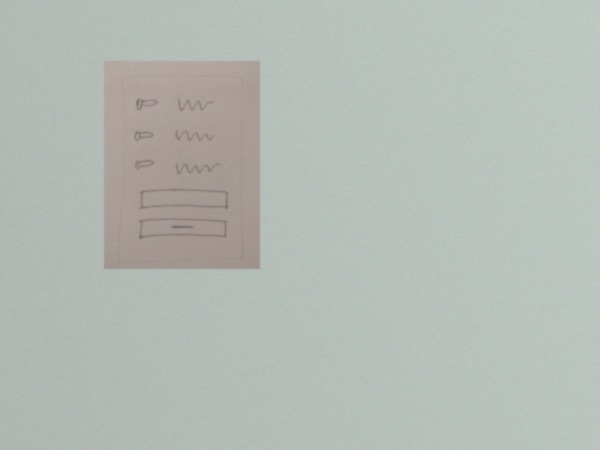button: (136, 216, 229, 242)
switch: (133, 95, 161, 114), (131, 156, 157, 173), (132, 129, 156, 145)
text: (173, 159, 224, 180), (172, 127, 216, 145), (175, 95, 216, 114)
text_input: (137, 188, 232, 213)
